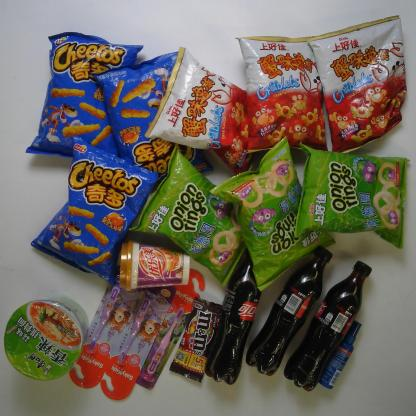Chocolate: (167, 296, 224, 388)
Drink: (241, 244, 334, 383), (281, 259, 373, 395), (201, 252, 263, 391)
Instant Drink: (117, 234, 188, 292)
Instant Noodles: (3, 296, 88, 386)
Personal Hygiene: (98, 282, 180, 404), (66, 276, 147, 392), (136, 266, 206, 392), (316, 319, 363, 392)
Puffed Food: (209, 130, 339, 294), (28, 136, 162, 286), (127, 142, 253, 290), (25, 26, 148, 160), (142, 43, 262, 177), (94, 48, 215, 176), (304, 13, 408, 156), (291, 136, 412, 250), (230, 29, 330, 155)
